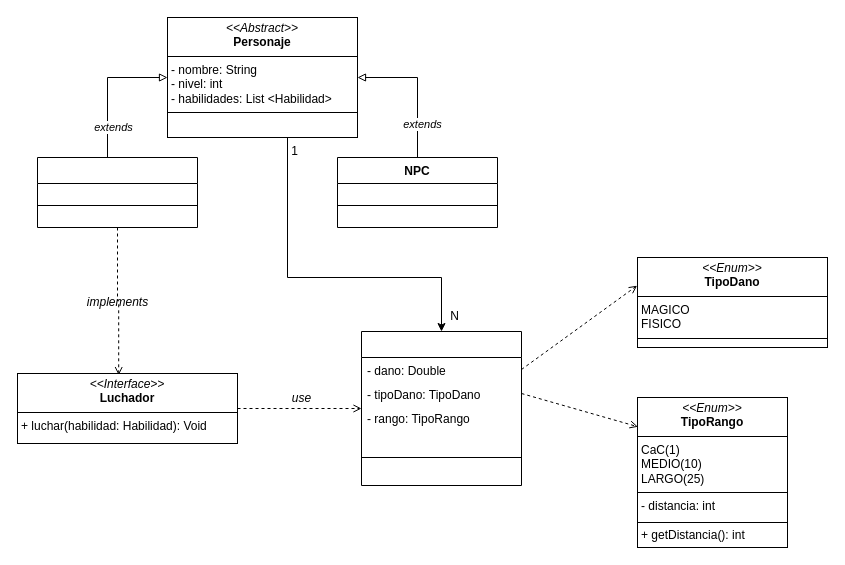
Some shapes in this 845 by 565 pixel diagram are drawn without their labels. The box of each missing label's shape, as (x1, y1, x2, y2) in pixels:
Habilidad: (360, 330, 522, 486)
Jugador: (36, 156, 198, 228)
